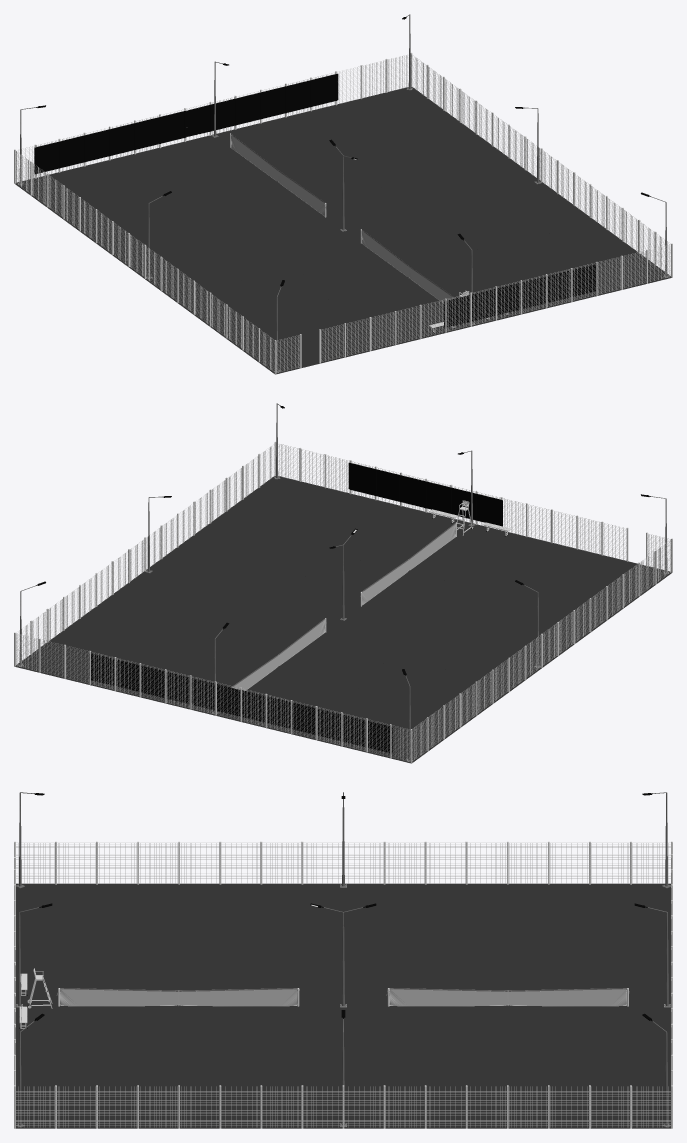
Rendered from TennisCourt.fbx.
3 renders of one model, top to bottom at view 1: azimuth 30°, elevation 25°; view 2: azimuth 150°, elevation 25°; view 3: azimuth 270°, elevation 25°, orthographic. The views are drawn at different scales.
Parts seen in each view (by area): view 1: Plane.126, Plane.130, Cube.2084, Cube.2083, Plane.123, Plane.122, Plane.121, Plane.127, Plane, Cube.2077, Cube.2089, Cube.2075 (+14 smaller); view 2: Plane.130, Plane.126, Cube.2080, Plane.121, Plane.123, Plane.122, Cube.2081, Plane, Cube.2083, Cube.2084, Plane.127, Cube.2075 (+15 smaller); view 3: Plane.126, Plane.130, Cube.2088, Cube.2090, Cube.2076, Cube.2078, NurbsPath.005, NurbsPath.001, Cube.2087, Cube.2089, Cube.2075, Cube.2077 (+6 smaller).
Part boxes in pixels (bbox=[...]): Plane.126: bbox=[15, 87, 540, 278]; Plane.130: bbox=[145, 182, 671, 374]; Cube.2084: bbox=[321, 244, 670, 361]; Cube.2083: bbox=[321, 245, 669, 361]; Plane.123: bbox=[34, 110, 187, 174]; Plane.122: bbox=[187, 74, 338, 136]; Plane.121: bbox=[444, 264, 597, 327]; Plane.127: bbox=[85, 115, 470, 249]; Plane: bbox=[216, 211, 601, 344]; Cube.2077: bbox=[16, 151, 144, 276]; Cube.2089: bbox=[411, 55, 539, 180]; Cube.2075: bbox=[148, 248, 272, 370]; Plane.130: bbox=[146, 476, 671, 667]; Plane.126: bbox=[15, 571, 541, 763]; Cube.2080: bbox=[16, 634, 365, 750]; Plane.121: bbox=[348, 463, 502, 526]; Plane.123: bbox=[239, 690, 392, 753]; Plane.122: bbox=[89, 653, 239, 715]; Cube.2081: bbox=[16, 633, 364, 750]; Plane: bbox=[216, 504, 601, 638]; Cube.2083: bbox=[279, 444, 623, 559]; Cube.2084: bbox=[278, 444, 626, 560]; Plane.127: bbox=[85, 600, 470, 731]; Cube.2075: bbox=[542, 540, 670, 665]; Plane.126: bbox=[343, 883, 670, 1128]; Plane.130: bbox=[16, 883, 343, 1128]; Cube.2088: bbox=[16, 1091, 342, 1125]; Cube.2090: bbox=[344, 1091, 670, 1125]; Cube.2076: bbox=[16, 842, 341, 878]; Cube.2078: bbox=[345, 842, 670, 878]; NurbsPath.005: bbox=[389, 989, 626, 1005]; NurbsPath.001: bbox=[60, 989, 297, 1005]; Cube.2087: bbox=[18, 1086, 338, 1127]; Cube.2089: bbox=[348, 1086, 668, 1127]; Cube.2075: bbox=[18, 843, 338, 883]; Cube.2077: bbox=[348, 843, 668, 883].
Bounding box in the file's own units: 3098 × 606 × 3525.
